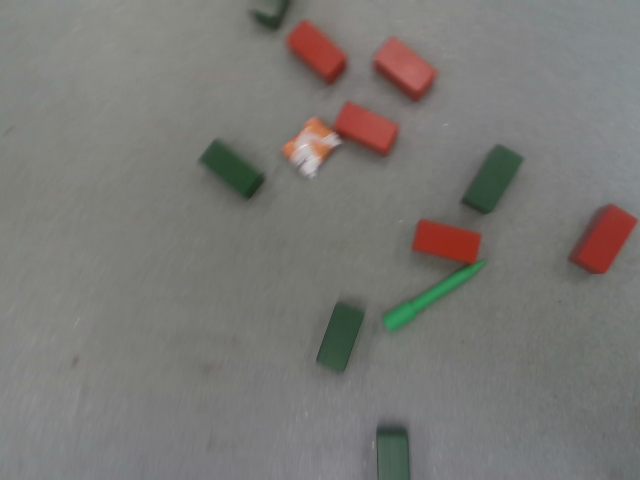Probe: (380, 258, 488, 333)
